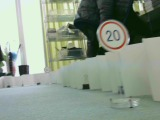speed_20: (96, 19, 128, 52)
